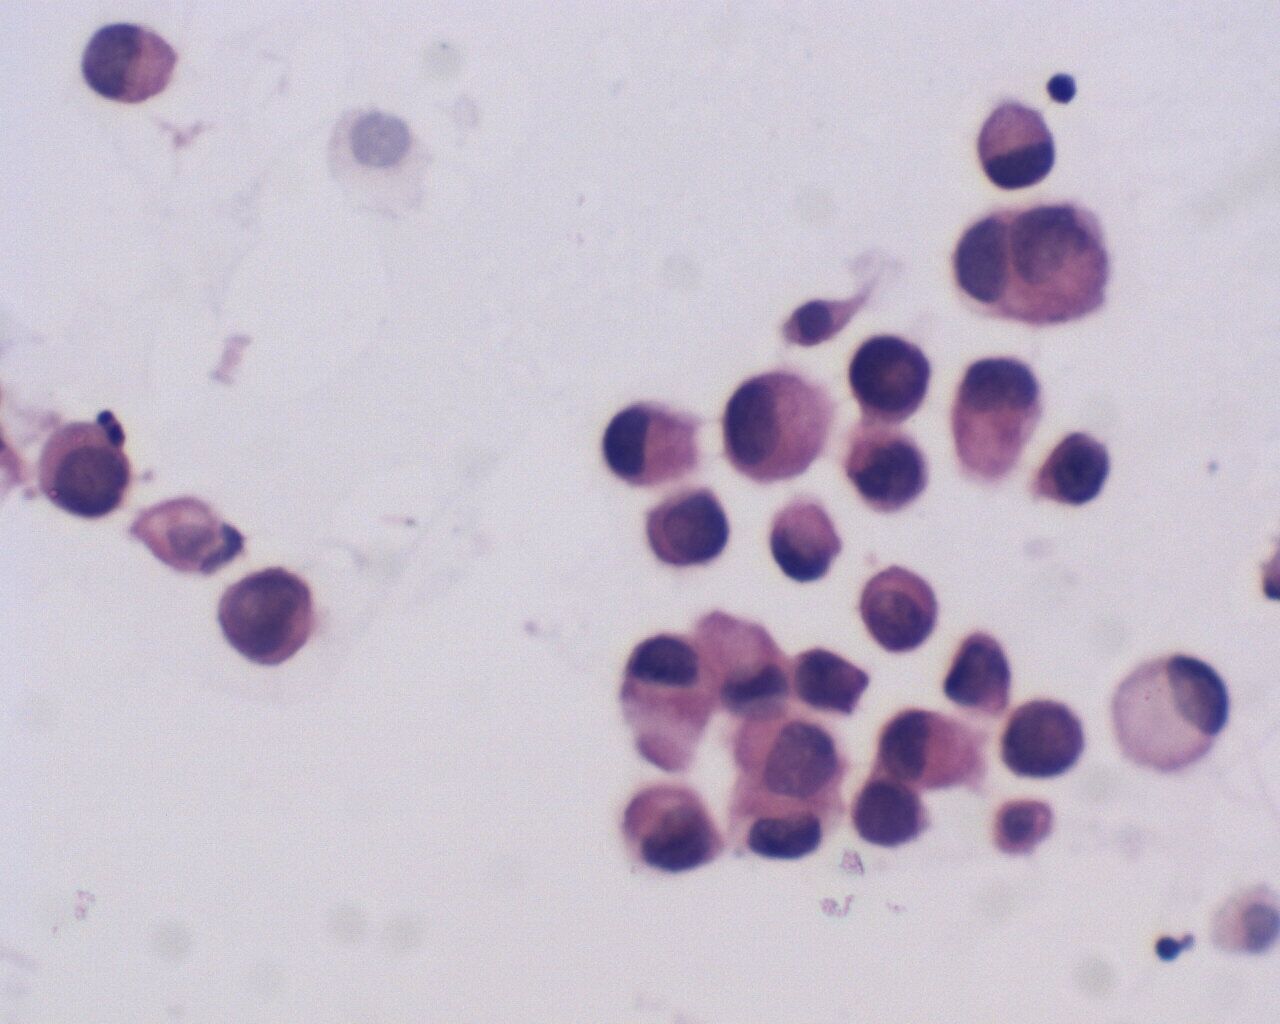ab: (31, 418, 136, 523), (220, 565, 319, 675), (616, 779, 723, 880), (75, 15, 185, 107), (844, 427, 934, 529), (859, 554, 942, 655), (994, 696, 1086, 787), (838, 329, 928, 418), (639, 484, 734, 566), (787, 634, 871, 725), (944, 626, 1021, 720), (1038, 422, 1108, 510), (853, 772, 920, 846)
histo: (1109, 637, 1231, 776)
lymph: (1046, 66, 1079, 107)
